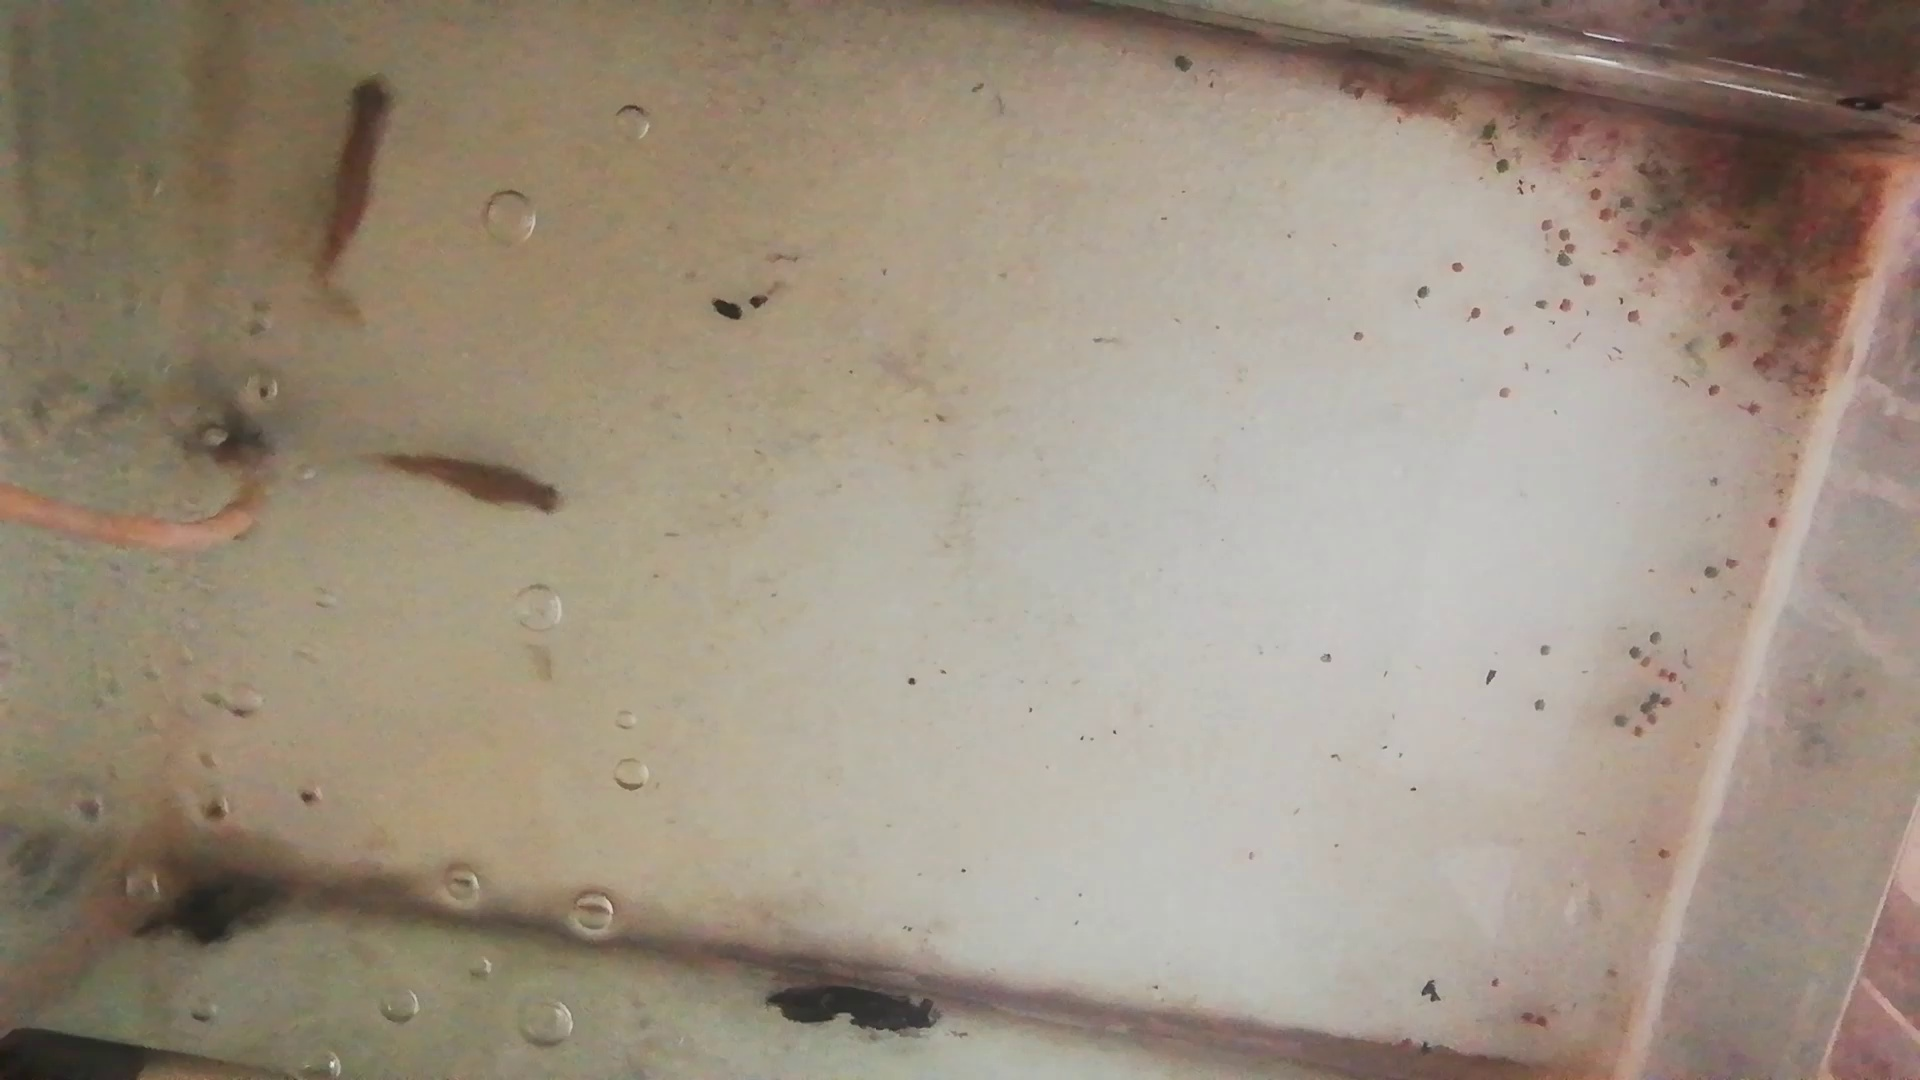fish: (353, 444, 568, 521), (316, 73, 392, 280)
